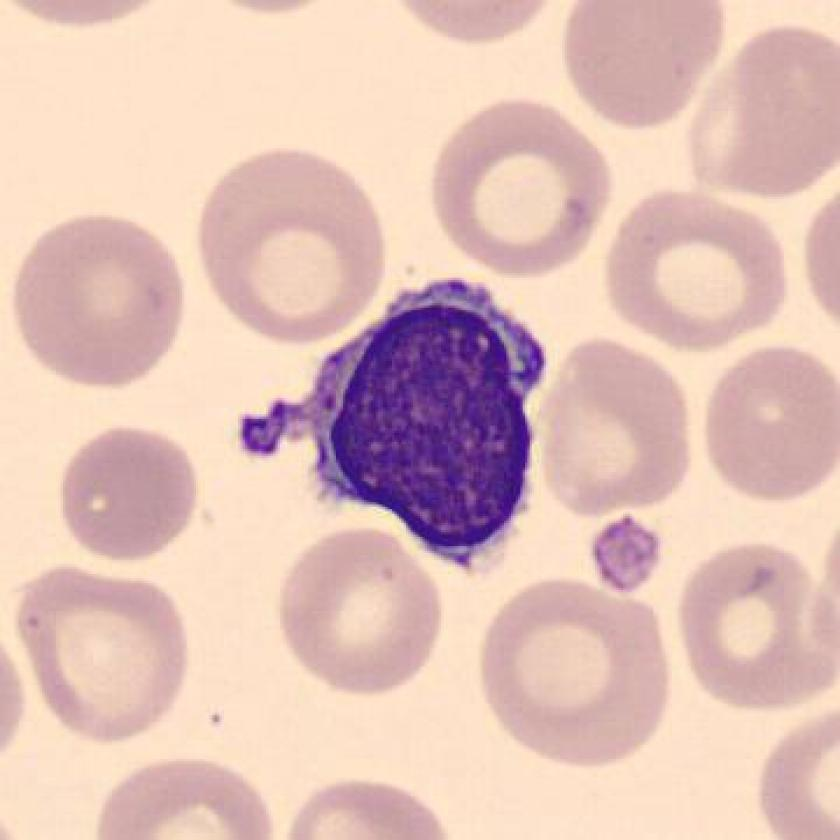lymphocyte: (223, 263, 566, 594)
